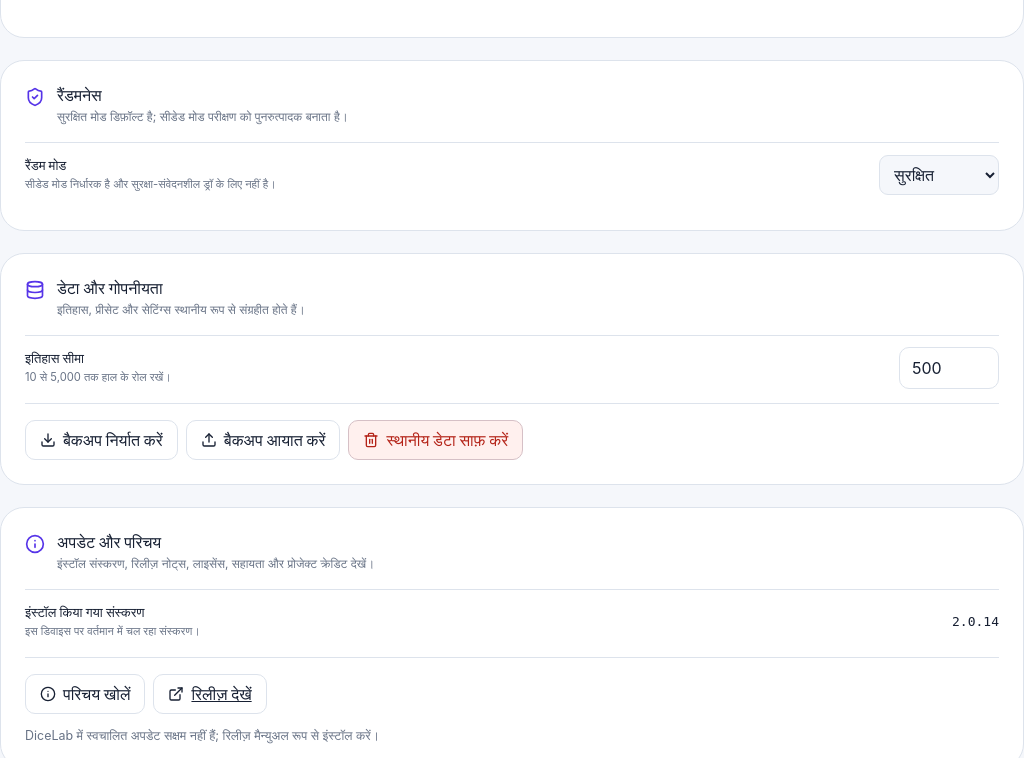
Test: SettingsPanel localized backup failures › shows the safe Hindi size limit when backup export exceeds the restore contract
The image size is (1024, 758).
(page scrolled)
Click the button "बैकअप निर्यात करें": (101, 440) x1=25 y1=420 x2=178 y2=460
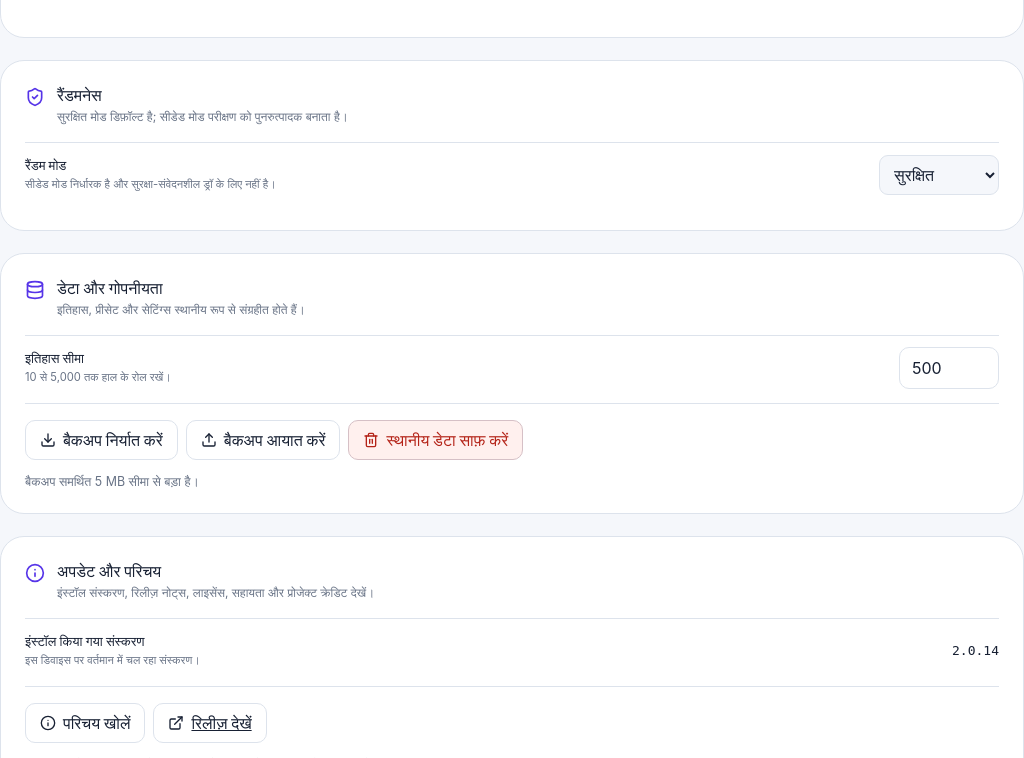
Result: the message reads "बैकअप समर्थित 5 MB सीमा से बड़ा है।" at x1=25 y1=474 x2=199 y2=489
